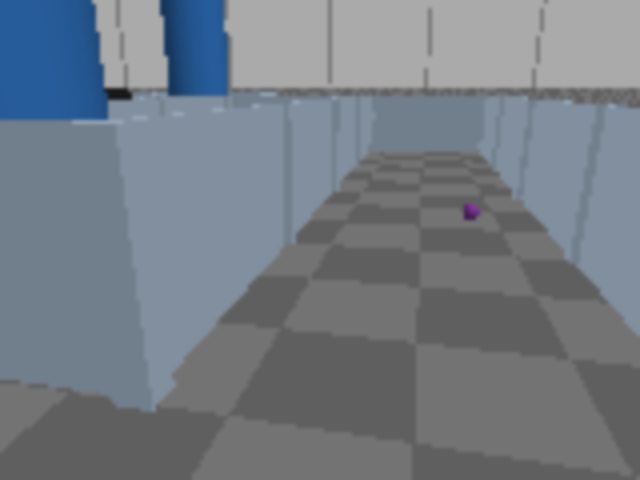person: (0, 0, 114, 321)
puck: (459, 202, 482, 223)
